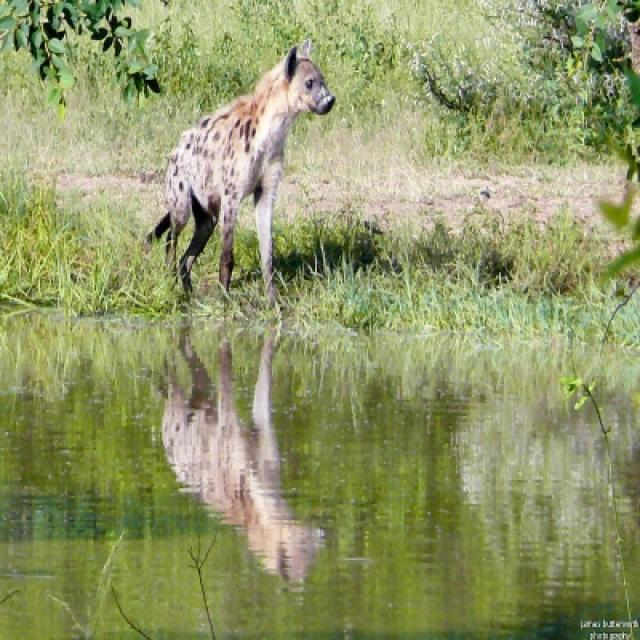hyena: (147, 40, 334, 299)
